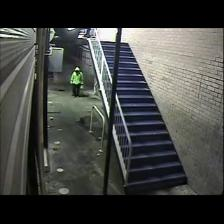person: (70, 66, 83, 97)
